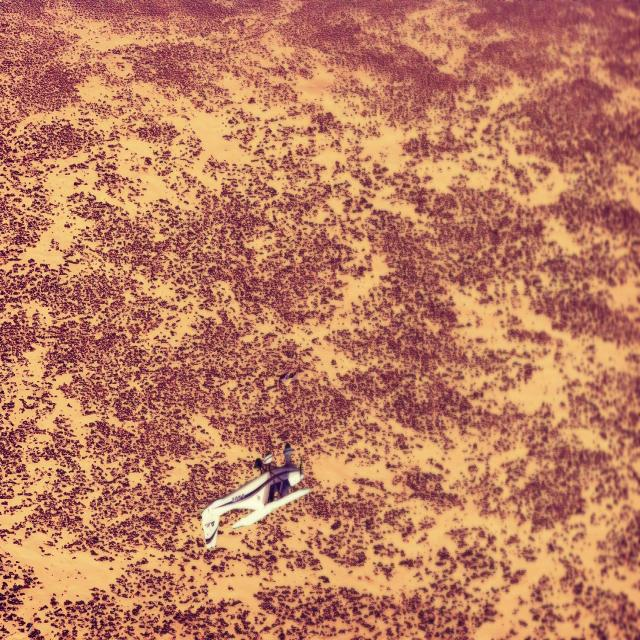airplane: (200, 442, 310, 550)
